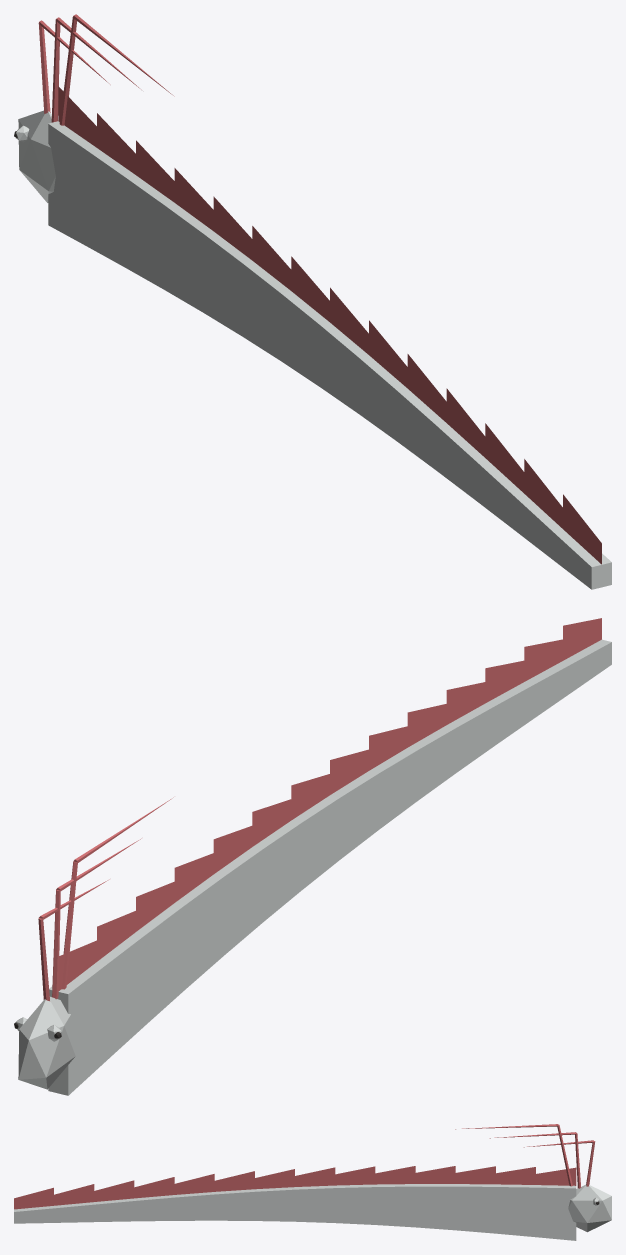
Rendered from Oarfish.fbx.
3 views of the same model, one above another, from view 1: azimuth 30°, elevation 25°; view 2: azimuth 150°, elevation 25°; view 3: azimuth 270°, elevation 25° (orthographic). The views are drawn at different scales.
Parts seen in each view (by area): view 1: Body, Head, DorsalRibbon9, DorsalRibbon10, DorsalRibbon3, DorsalRibbon11, DorsalRibbon4, DorsalRibbon5, DorsalRibbon12, DorsalRibbon13, DorsalRibbon6, DorsalRibbon7 (+4 smaller); view 2: Body, Head, DorsalRibbon3, DorsalRibbon9, DorsalRibbon10, DorsalRibbon4, DorsalRibbon11, DorsalRibbon5, DorsalRibbon12, DorsalRibbon2, DorsalRibbon6, DorsalRibbon1 (+6 smaller); view 3: Body, Head, DorsalRibbon4, DorsalRibbon12, DorsalRibbon2, DorsalRibbon5, DorsalRibbon10, DorsalRibbon11, DorsalRibbon6, DorsalRibbon9, DorsalRibbon8, DorsalRibbon7 (+7 smaller).
Part boxes in pixels (x1=…): Body: x1=48, y1=121, x2=611, y2=589; Head: x1=18, y1=110, x2=55, y2=202; DorsalRibbon9: x1=407, y1=354, x2=446, y2=422; DorsalRibbon10: x1=446, y1=388, x2=485, y2=457; DorsalRibbon3: x1=174, y1=168, x2=213, y2=230; DorsalRibbon11: x1=485, y1=423, x2=524, y2=493; DorsalRibbon4: x1=213, y1=196, x2=252, y2=260; DorsalRibbon5: x1=252, y1=226, x2=291, y2=290; DorsalRibbon12: x1=524, y1=459, x2=562, y2=528; DorsalRibbon13: x1=563, y1=494, x2=601, y2=564; DorsalRibbon6: x1=291, y1=256, x2=329, y2=321; DorsalRibbon7: x1=330, y1=287, x2=368, y2=354; Body: x1=48, y1=639, x2=611, y2=1095; Head: x1=18, y1=996, x2=75, y2=1089; DorsalRibbon3: x1=174, y1=853, x2=213, y2=902; DorsalRibbon9: x1=407, y1=704, x2=446, y2=747; DorsalRibbon10: x1=446, y1=682, x2=485, y2=724; DorsalRibbon4: x1=213, y1=826, x2=252, y2=873; DorsalRibbon11: x1=485, y1=660, x2=524, y2=703; DorsalRibbon5: x1=252, y1=799, x2=291, y2=846; DorsalRibbon12: x1=524, y1=639, x2=562, y2=681; DorsalRibbon2: x1=136, y1=881, x2=174, y2=931; DorsalRibbon6: x1=291, y1=774, x2=329, y2=820; DorsalRibbon1: x1=97, y1=911, x2=135, y2=961; Body: x1=14, y1=1184, x2=576, y2=1240; Head: x1=568, y1=1184, x2=611, y2=1232; DorsalRibbon4: x1=375, y1=1166, x2=415, y2=1184; DorsalRibbon12: x1=54, y1=1184, x2=94, y2=1205; DorsalRibbon2: x1=455, y1=1166, x2=495, y2=1184; DorsalRibbon5: x1=335, y1=1166, x2=375, y2=1185; DorsalRibbon10: x1=134, y1=1177, x2=174, y2=1198; DorsalRibbon11: x1=94, y1=1180, x2=134, y2=1201; DorsalRibbon6: x1=295, y1=1167, x2=335, y2=1186; DorsalRibbon9: x1=174, y1=1174, x2=214, y2=1194; DorsalRibbon8: x1=214, y1=1171, x2=254, y2=1191; DorsalRibbon7: x1=255, y1=1169, x2=294, y2=1189.
Size of the model in its own units: 0.1251 by 0.5657 by 2.68.
